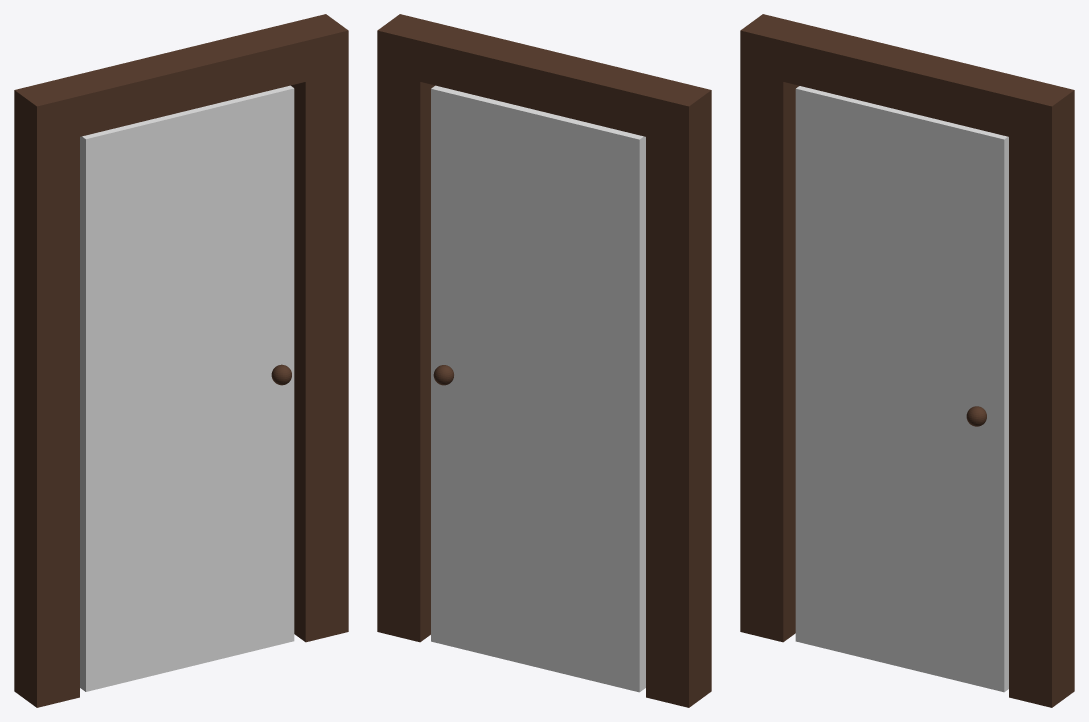
Rendered from DoorWithMaterial01.fbx.
3 views of the same model, side by side, from view 1: azimuth 30°, elevation 25°; view 2: azimuth 150°, elevation 25°; view 3: azimuth 330°, elevation 25° (orthographic).
Parts seen in each view (by area): view 1: Door, FrameDoor; view 2: Door, FrameDoor; view 3: Door, FrameDoor.
Boxes of the visible parts, left/top/right/bottom form: Door: left=80, top=85, right=294, bottom=691; FrameDoor: left=14, top=14, right=348, bottom=707; Door: left=431, top=85, right=645, bottom=692; FrameDoor: left=377, top=14, right=711, bottom=707; Door: left=795, top=86, right=1008, bottom=692; FrameDoor: left=740, top=14, right=1074, bottom=707.
Bounding box in the file's own units: 432 × 796 × 99.49.
